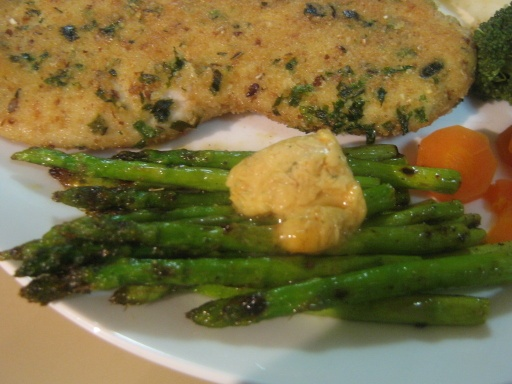background: (0, 0, 410, 197)
